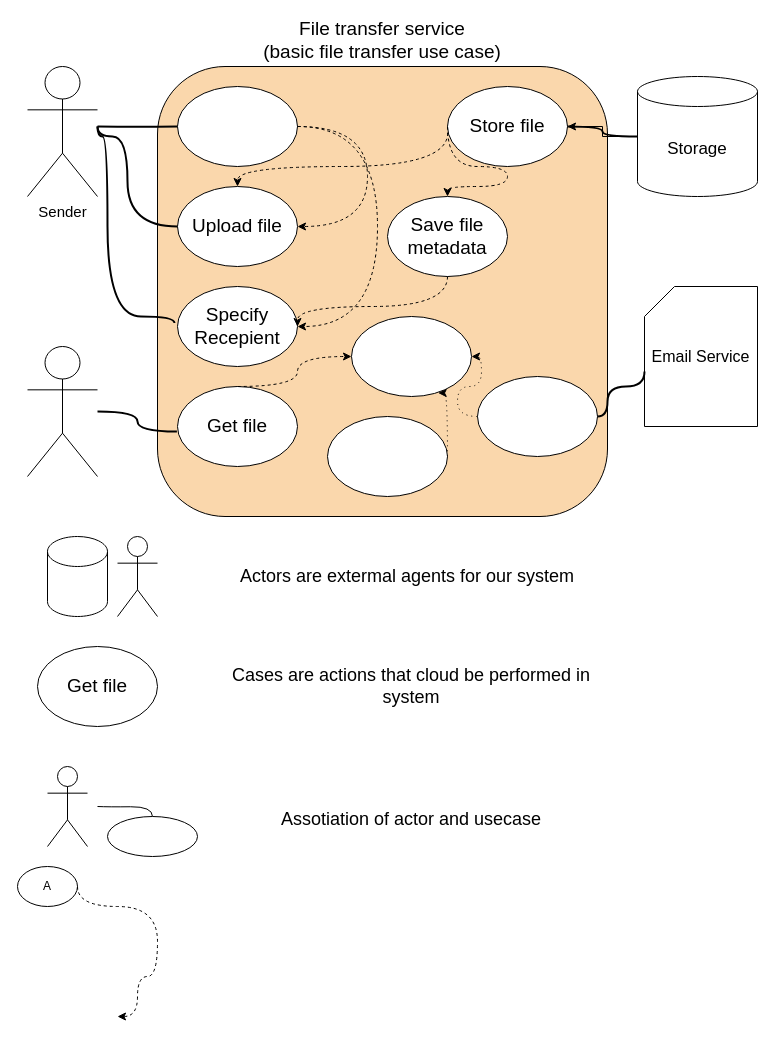
This 775x1037 diagram has some shape labels left out. The shapes that lost their labels are listed below. From the top down, each one's box as (x1, y1, x2, y2) in pixels, then its label:
(176, 86, 298, 166): Send file
(350, 316, 472, 396): Get avaible
(26, 346, 98, 476): Recepient
(476, 376, 598, 456): Send email
(326, 416, 448, 496): Get file list
